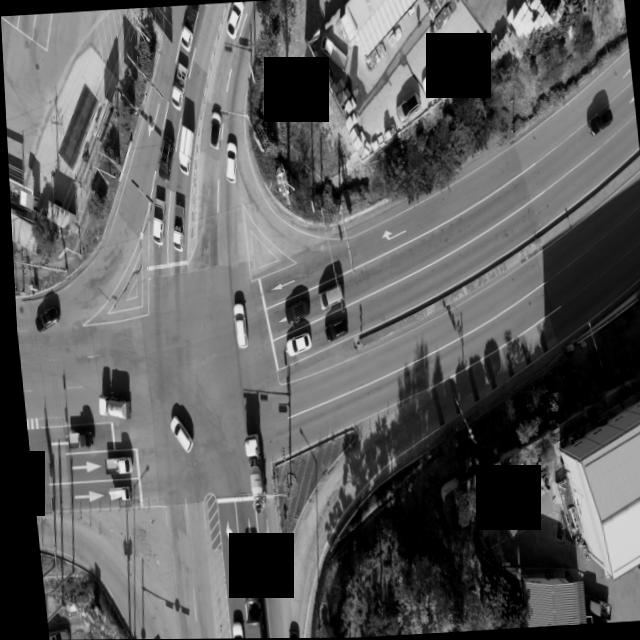car: (152, 130, 177, 184), (488, 498, 512, 540), (418, 63, 446, 97), (164, 415, 187, 454), (588, 107, 614, 137), (227, 2, 248, 39), (394, 94, 420, 123), (228, 302, 244, 349), (31, 306, 58, 333), (220, 140, 236, 184), (280, 295, 308, 320), (315, 283, 343, 308), (282, 333, 309, 357), (205, 111, 221, 150), (319, 317, 345, 340), (40, 622, 64, 640), (223, 621, 237, 639), (281, 620, 293, 639)
large_truck: (233, 567, 258, 639)
medium_truck: (237, 436, 262, 513), (92, 396, 125, 424)
small_truck: (172, 121, 199, 177), (315, 30, 349, 71), (165, 191, 187, 251), (179, 5, 205, 53), (166, 62, 189, 111), (146, 196, 165, 246), (99, 455, 127, 476), (581, 597, 603, 622), (63, 429, 89, 449), (102, 483, 125, 505)
